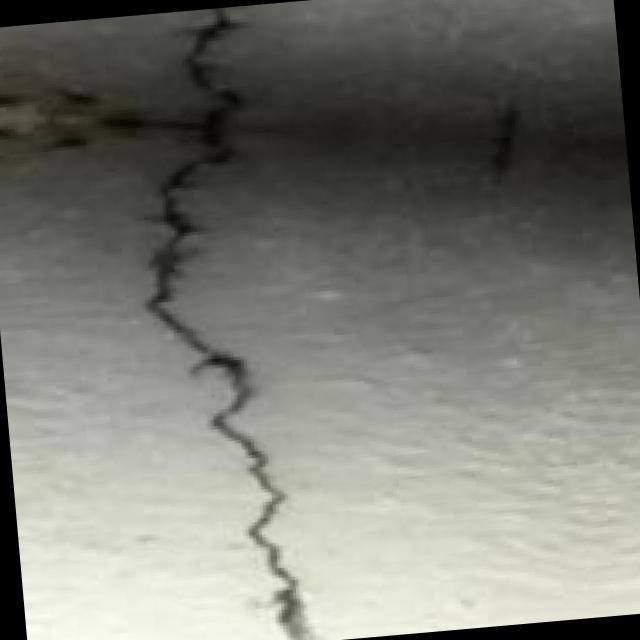crack: (69, 0, 364, 640)
